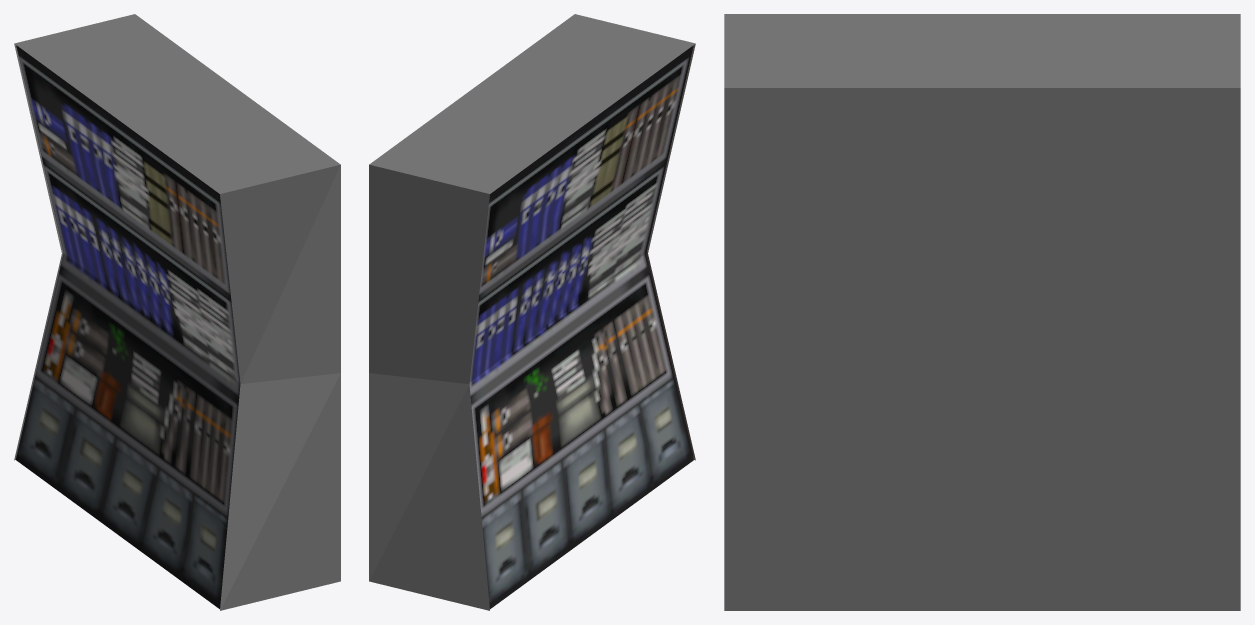
Rendered from BüroWarenSchrank [Grau]_2025.glb.
3 renders of one model, left to right at view 1: azimuth 30°, elevation 25°; view 2: azimuth 150°, elevation 25°; view 3: azimuth 270°, elevation 25°, orthographic. The views are drawn at different scales.
Visible parts, largest first — view 1: pCubeShape74, pCubeShape75; view 2: pCubeShape74, pCubeShape75; view 3: pCubeShape75.
Boxes of the visible parts, box(x1,y1,x2,y2) form: pCubeShape74: box(16, 45, 240, 608); pCubeShape75: box(14, 14, 340, 610); pCubeShape74: box(469, 45, 693, 608); pCubeShape75: box(369, 14, 695, 610); pCubeShape75: box(724, 14, 1240, 610).
Size of the model in its own units: 0.0837 by 0.2755 by 0.2465.
Materials: 2 (1 with a texture image).
